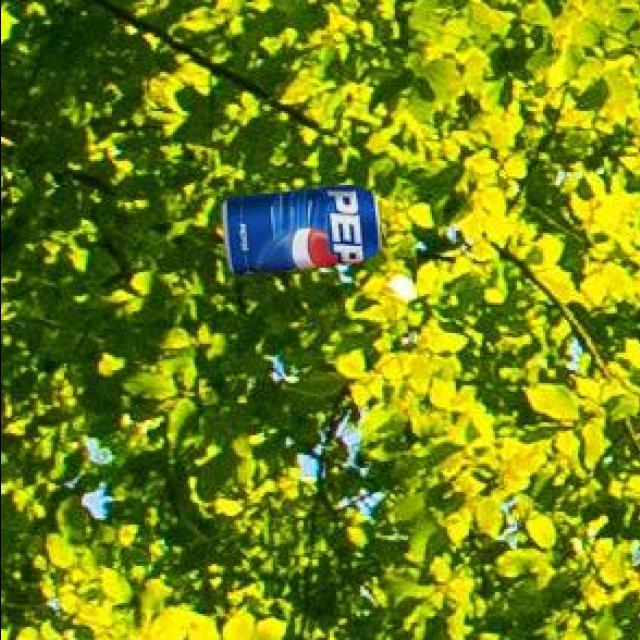logam: (225, 182, 382, 271)
